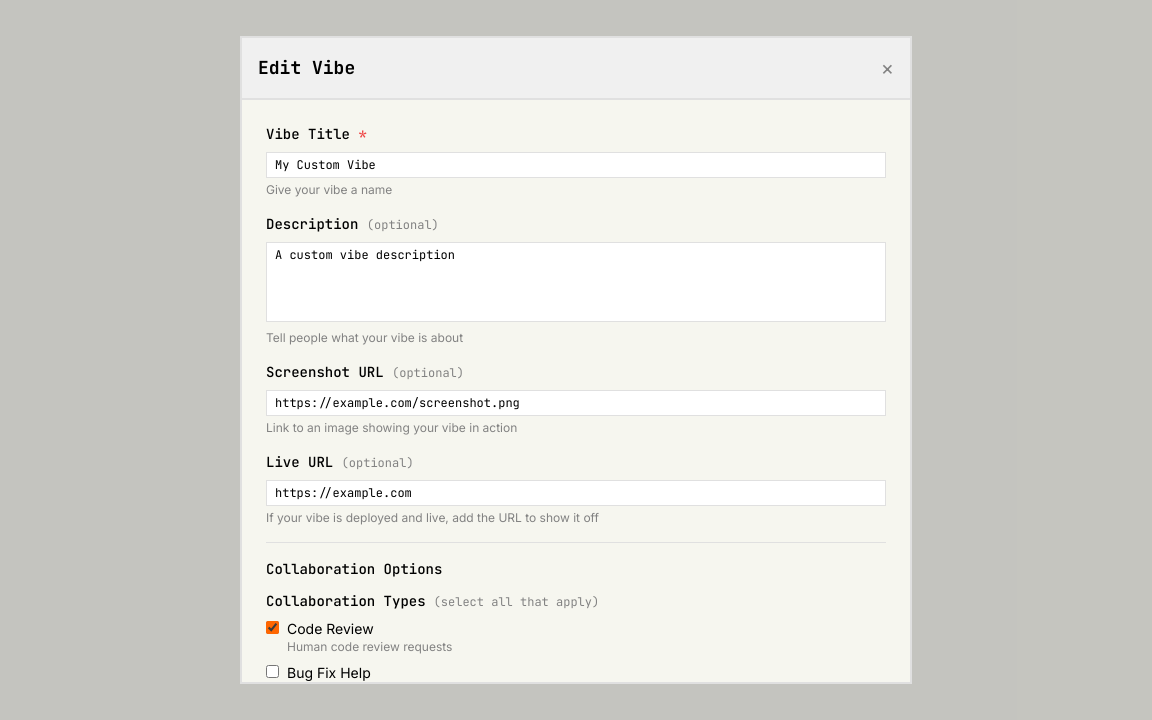
it: EditVibeModal › Form Interactions › should disable save button when title is empty for non-GitHub vibe
This screenshot has width=1152, height=720.
Clear the field with placeholder "My Awesome Project" below "Vibe Title" at (576, 165), box [266,152,886,178]
(page scrolled)
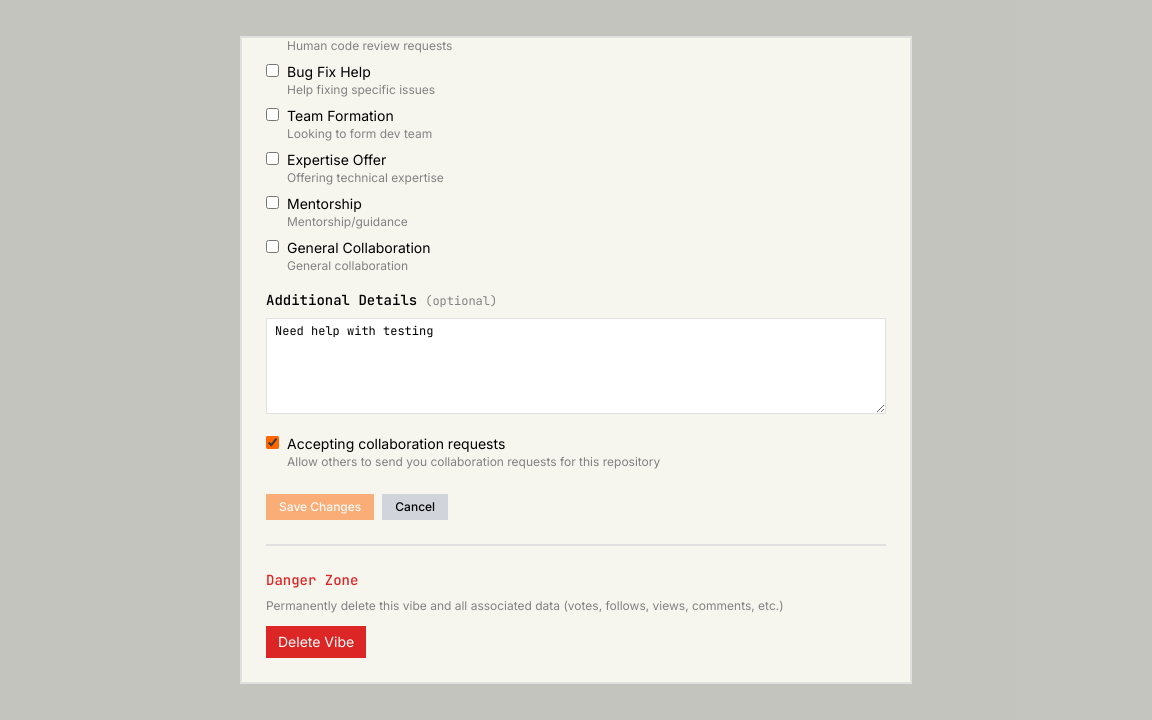
Check: the button "Save Changes" is disabled, box [266,494,374,520]
